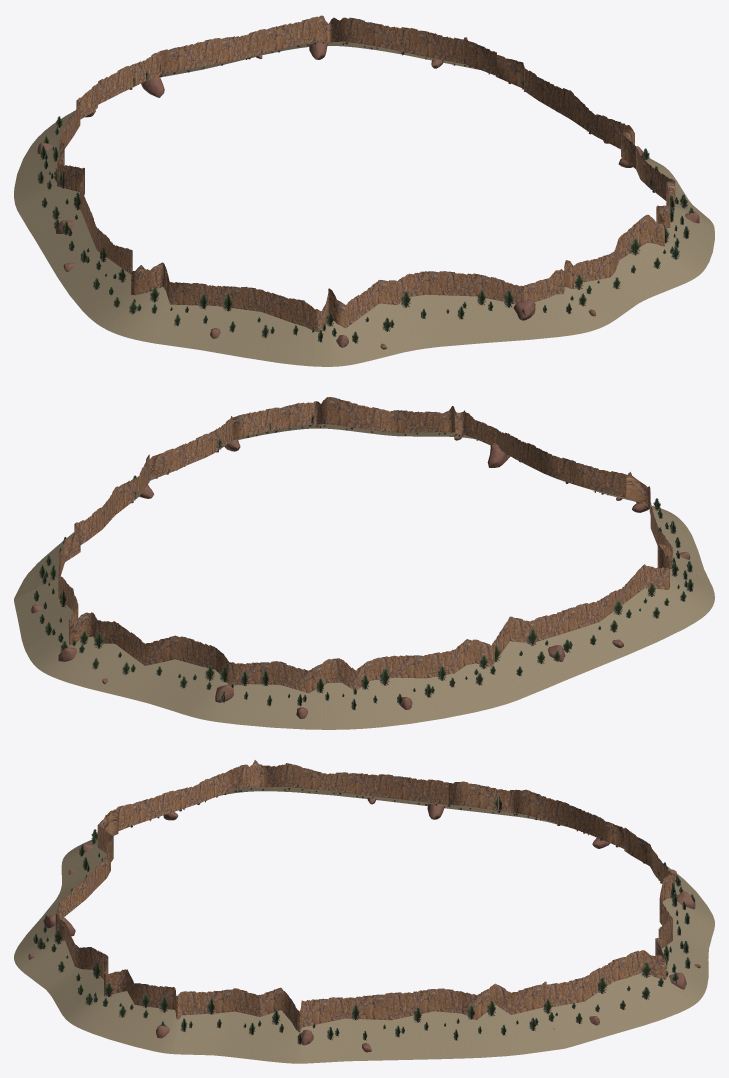
3 renders of one model, top to bottom at view 1: azimuth 30°, elevation 25°; view 2: azimuth 150°, elevation 25°; view 3: azimuth 270°, elevation 25°, orthographic. The views are drawn at different scales.
Visible parts, largest first — view 1: Wall_02, Wall_01, Wall_03, Wall_00, Wall_09, Wall_07, Wall_06, Wall_04, Wall_08, Wall_05, Trees_02, Trees_01 (+4 smaller); view 2: Wall_09, Wall_08, Wall_07, Wall_00, Wall_03, Wall_06, Wall_02, Wall_04, Wall_01, Wall_05, Trees_08, Trees_09 (+2 smaller); view 3: Wall_05, Wall_06, Wall_04, Wall_07, Wall_03, Wall_00, Wall_09, Wall_02, Wall_01, Wall_08, Trees_04, Trees_06 (+3 smaller).
Part boxes in pixels (box(x1,y1,x2,y2)): Wall_02: box(312, 271, 530, 366); Wall_01: box(107, 262, 317, 366); Wall_03: box(524, 214, 693, 339); Wall_00: box(34, 185, 141, 329); Wall_09: box(14, 104, 84, 238); Wall_07: box(178, 15, 381, 74); Wall_06: box(364, 21, 524, 90); Wall_04: box(636, 146, 714, 278); Wall_08: box(32, 42, 197, 143); Wall_05: box(525, 68, 681, 188); Trees_02: box(317, 290, 525, 343); Trees_01: box(129, 287, 314, 338); Wall_09: box(367, 616, 562, 727); Wall_08: box(171, 642, 376, 729); Wall_07: box(24, 596, 200, 710); Wall_00: box(530, 555, 708, 681); Wall_03: box(321, 397, 497, 445); Wall_06: box(14, 519, 87, 648); Wall_02: box(497, 429, 681, 520); Wall_04: box(185, 401, 324, 465); Wall_01: box(649, 486, 714, 611); Wall_05: box(44, 444, 185, 557); Trees_08: box(193, 665, 368, 709); Trees_09: box(373, 645, 544, 704); Wall_05: box(249, 987, 466, 1063); Wall_06: box(462, 956, 658, 1058); Wall_04: box(67, 969, 259, 1058); Wall_07: box(627, 887, 711, 1020); Wall_03: box(14, 903, 108, 1019); Wall_00: box(247, 760, 459, 809); Wall_09: box(448, 781, 609, 842); Wall_02: box(27, 810, 118, 934); Wall_01: box(79, 761, 254, 845); Wall_08: box(610, 822, 714, 936); Trees_04: box(85, 983, 255, 1035); Trees_06: box(467, 977, 630, 1035).
Size of what is drawn, in the model's own units: 362 by 33.49 by 394.
